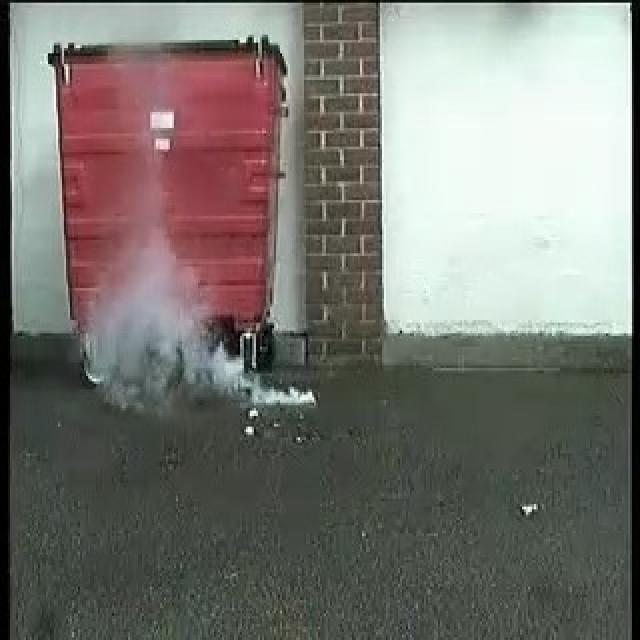smoke: (81, 234, 322, 416)
